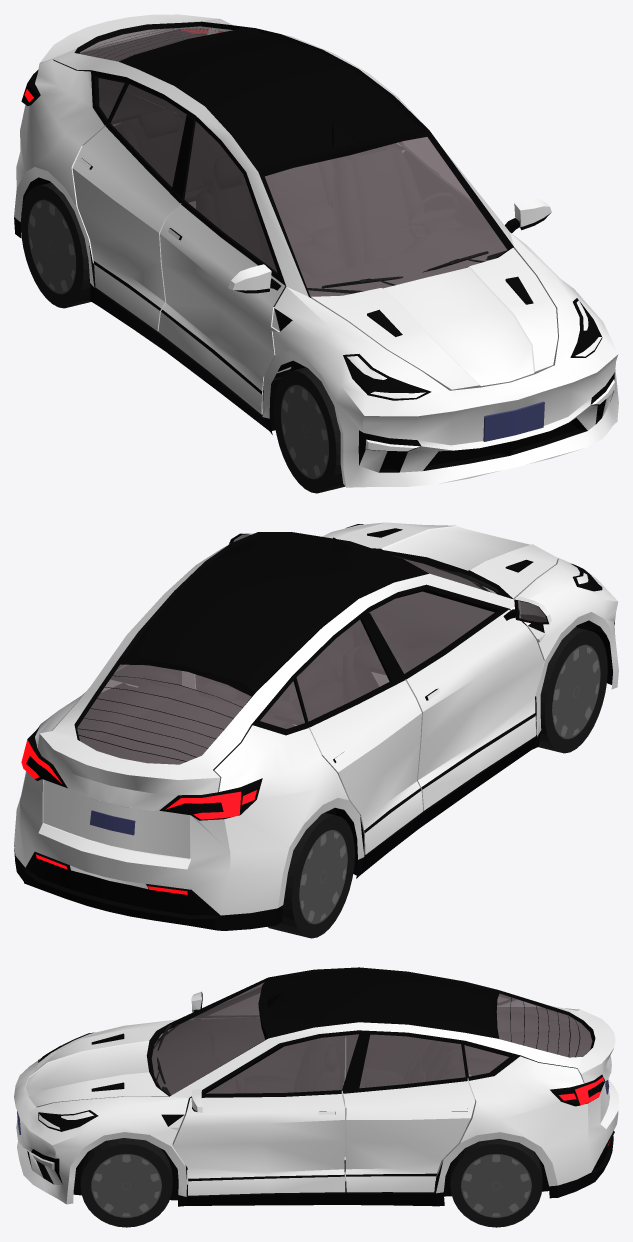
File: Elora_white_fbx.fbx
The picture shows the model from 3 angles, top to bottom: view 1: azimuth 30°, elevation 25°; view 2: azimuth 150°, elevation 25°; view 3: azimuth 270°, elevation 25°; orthographic projection. The views are drawn at different scales.
Parts seen in each view (by area): view 1: Body, Interior, FrontRightWheel, RearRightWheel, Wiper; view 2: Body, Interior, RearRightWheel, FrontRightWheel; view 3: Body, Interior, FrontLeftWheel, RearLeftWheel.
Boxes of the visible parts, box(x1,y1,x2,y2) form: Body: box(14, 14, 618, 487); Interior: box(53, 30, 506, 380); FrontRightWheel: box(273, 367, 344, 493); RearRightWheel: box(20, 182, 90, 308); Wiper: box(321, 251, 488, 288); Body: box(14, 522, 618, 930); Interior: box(77, 563, 547, 770); RearRightWheel: box(267, 813, 354, 938); FrontRightWheel: box(538, 627, 607, 753); Body: box(14, 967, 618, 1206); Interior: box(152, 1007, 591, 1172); FrontLeftWheel: box(80, 1138, 172, 1227); RearLeftWheel: box(450, 1138, 542, 1227).
Bounding box in the file's own units: 216 × 165 × 481.
14 materials, 4 textured.
